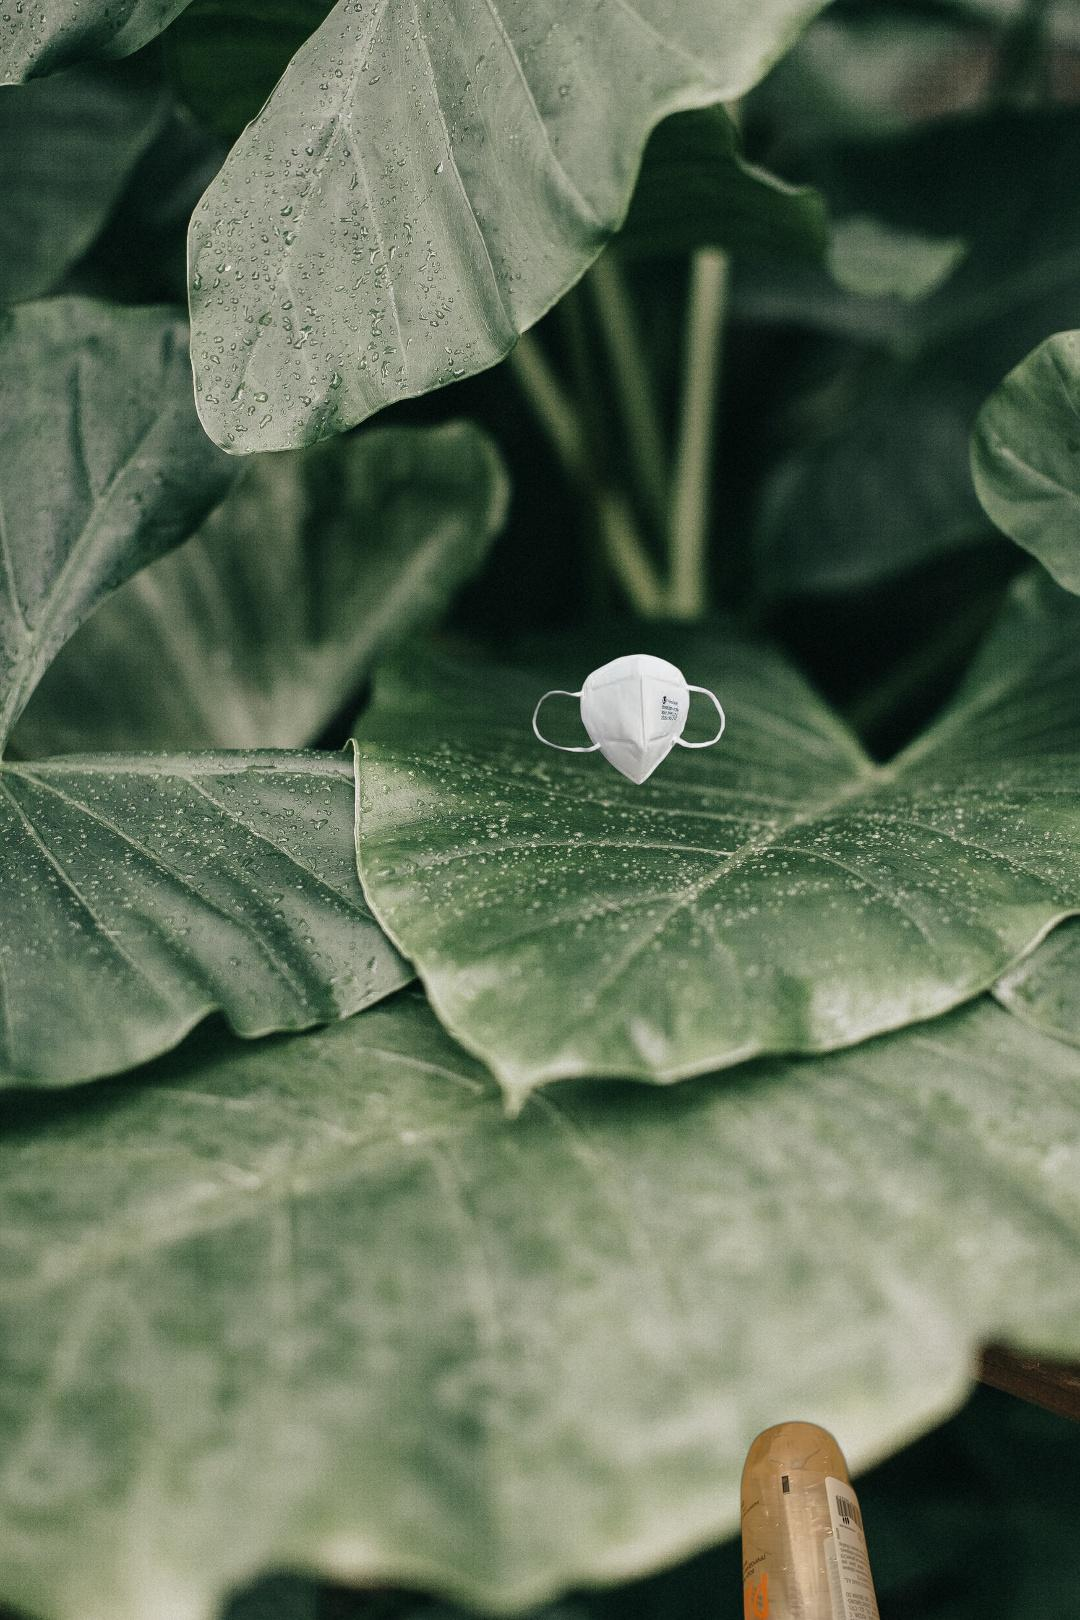plastic-bottles: (736, 1417, 900, 1620)
trash: (529, 651, 728, 788)
